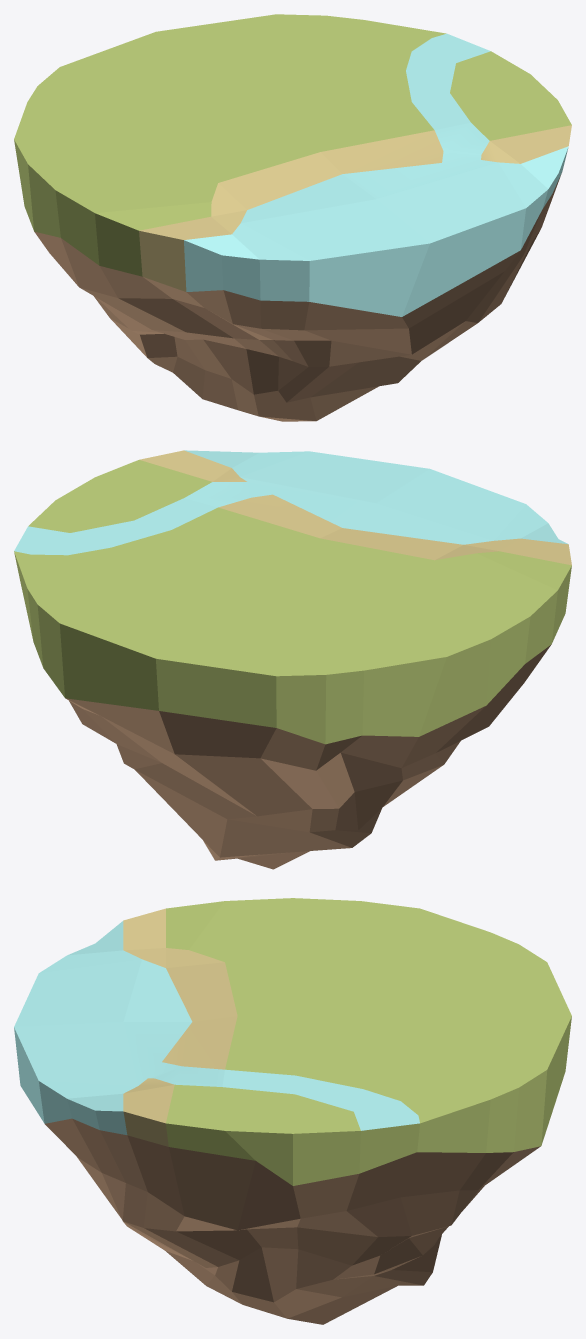
Rendered from Island met rivier.fbx.
3 renders of one model, top to bottom at view 1: azimuth 30°, elevation 25°; view 2: azimuth 150°, elevation 25°; view 3: azimuth 270°, elevation 25°, orthographic.
Parts seen in each view (by area): view 1: Island; view 2: Island; view 3: Island.
Boxes of the visible parts, left/top/right/bottom form: Island: left=14, top=14, right=571, bottom=421; Island: left=14, top=450, right=571, bottom=869; Island: left=14, top=898, right=571, bottom=1324.
Bounding box in the file's own units: 16.3 × 9.88 × 16.3.
